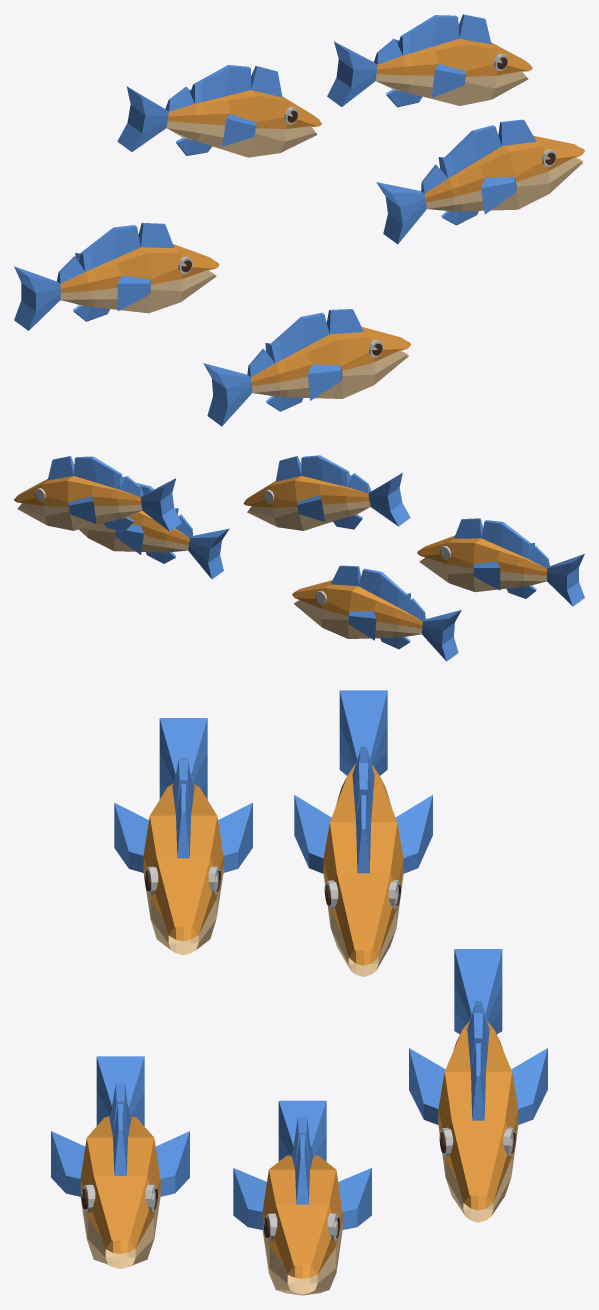
File: fish_1.fbx
3 renders of one model, top to bottom at view 1: azimuth 30°, elevation 25°; view 2: azimuth 150°, elevation 25°; view 3: azimuth 270°, elevation 25°, orthographic. The views are drawn at different scales.
Visible parts, largest first — view 1: Cylinder.004, Cylinder.003, Cylinder.001, Cylinder.005, Cylinder.002; view 2: Cylinder.003, Cylinder.001, Cylinder.005, Cylinder.002, Cylinder.004; view 3: Cylinder.002, Cylinder.005, Cylinder.001, Cylinder.003, Cylinder.004.
Boxes of the visible parts, <box> form: Cylinder.004: <box>376,119,584,244</box>; Cylinder.003: <box>203,309,410,426</box>; Cylinder.001: <box>14,222,219,330</box>; Cylinder.005: <box>327,14,532,107</box>; Cylinder.002: <box>117,65,321,157</box>; Cylinder.003: <box>292,565,461,661</box>; Cylinder.001: <box>417,518,584,606</box>; Cylinder.005: <box>14,456,181,531</box>; Cylinder.002: <box>243,455,410,530</box>; Cylinder.004: <box>79,482,229,579</box>; Cylinder.002: <box>294,690,432,976</box>; Cylinder.005: <box>409,949,547,1222</box>; Cylinder.001: <box>114,718,252,955</box>; Cylinder.003: <box>51,1056,189,1268</box>; Cylinder.004: <box>233,1100,371,1295</box>.
Size of the model in its own units: 1290 by 585 by 565.
